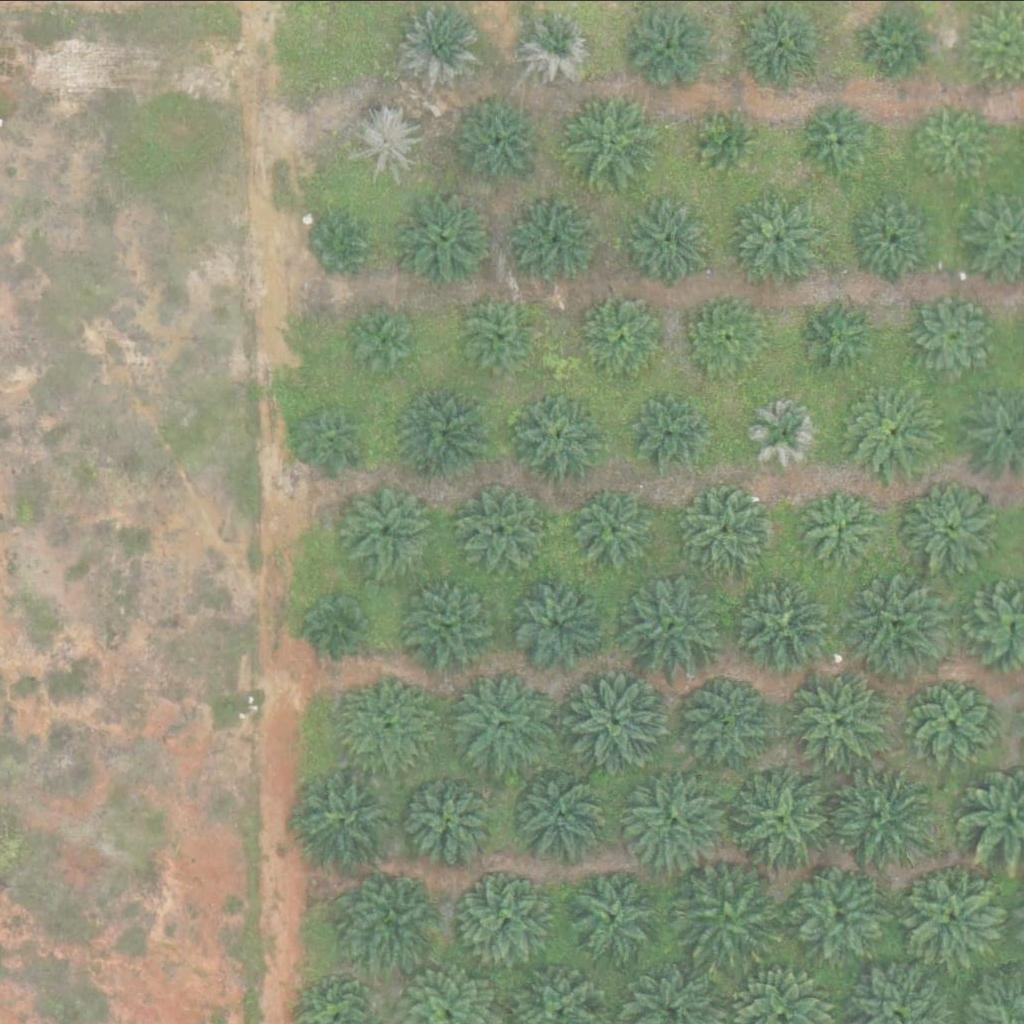Kelapa_Sawit: (669, 854, 783, 967), (726, 762, 840, 875), (825, 754, 939, 867), (616, 567, 729, 680), (619, 765, 733, 877), (841, 568, 955, 680), (290, 761, 403, 873), (560, 661, 673, 773), (345, 865, 446, 965), (788, 860, 889, 960), (404, 764, 505, 864), (510, 762, 611, 862), (342, 671, 443, 771), (448, 669, 549, 769), (400, 575, 501, 675), (508, 572, 609, 672), (732, 574, 833, 674), (338, 478, 439, 578), (841, 376, 942, 476), (906, 288, 1007, 388), (903, 867, 1004, 967), (454, 865, 554, 965), (565, 862, 665, 962), (676, 670, 776, 770), (793, 668, 893, 768), (396, 186, 496, 286), (450, 87, 550, 187), (564, 87, 664, 187), (900, 474, 1000, 574), (903, 671, 1003, 771), (462, 482, 551, 570), (686, 292, 775, 380), (853, 190, 942, 278), (793, 291, 881, 379), (405, 388, 493, 476), (518, 391, 606, 479), (584, 289, 672, 377), (398, 3, 486, 91), (628, 1, 716, 89), (576, 486, 664, 573), (686, 483, 774, 570), (513, 194, 601, 281), (629, 195, 717, 282), (739, 194, 827, 281), (803, 489, 879, 564), (349, 105, 425, 180), (519, 4, 595, 79), (468, 299, 543, 374), (804, 99, 879, 174), (859, 2, 934, 77), (636, 395, 711, 470), (750, 393, 825, 468), (915, 107, 990, 182), (301, 406, 364, 469), (348, 309, 411, 372), (303, 589, 366, 652), (699, 109, 762, 172), (309, 214, 371, 276)
